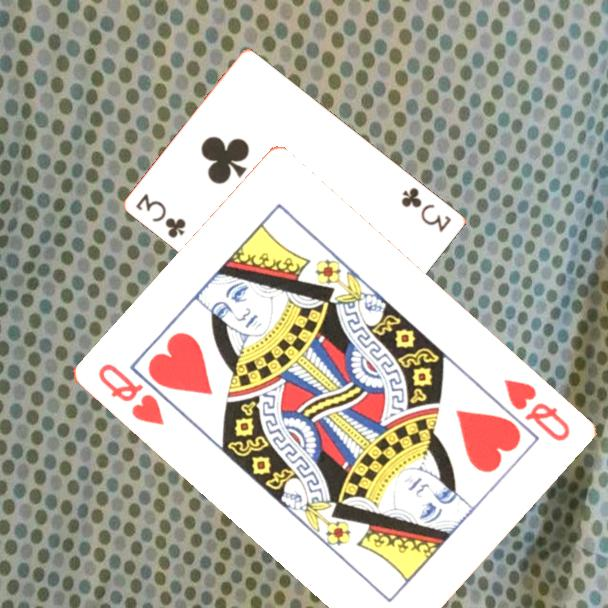c03: (398, 183, 455, 235), (132, 190, 189, 241)
h12: (93, 359, 167, 429), (499, 375, 573, 445)
